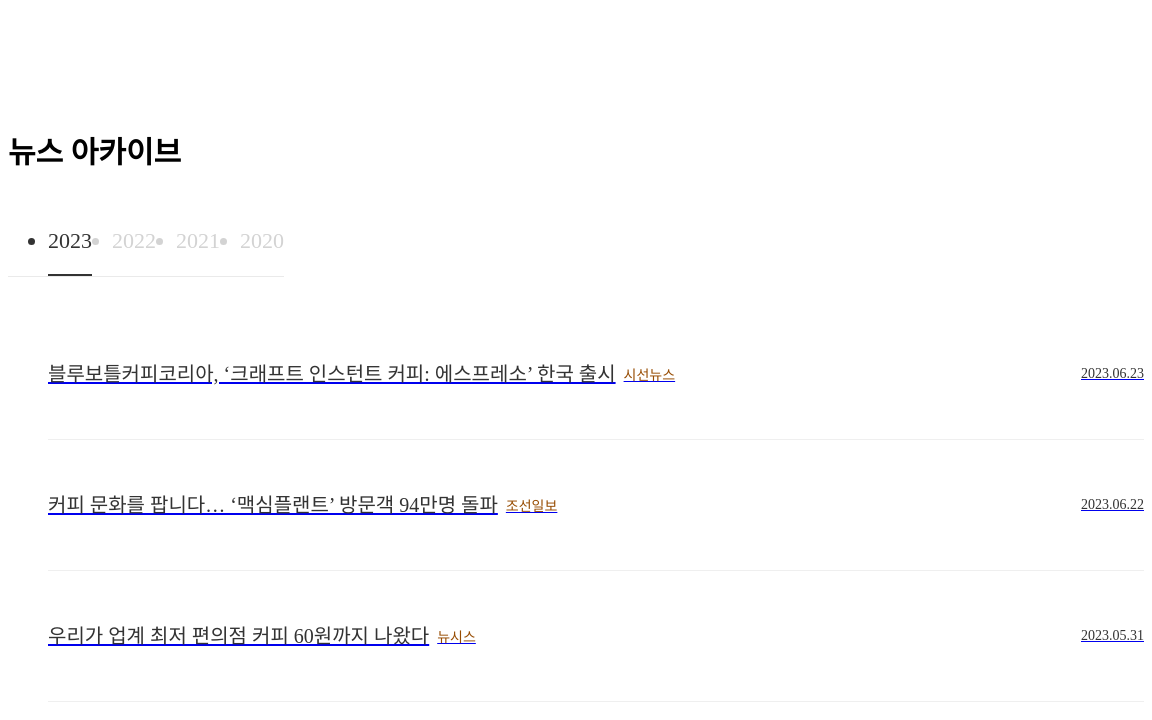
it: MiddleNews 통합 테스트 › 2022 탭 클릭. 기사 29개 › 기사가 10개를 초과해도 최초엔 10개만 렌더
Click the tab "2022" at (134, 240), box [112,228,156,253]
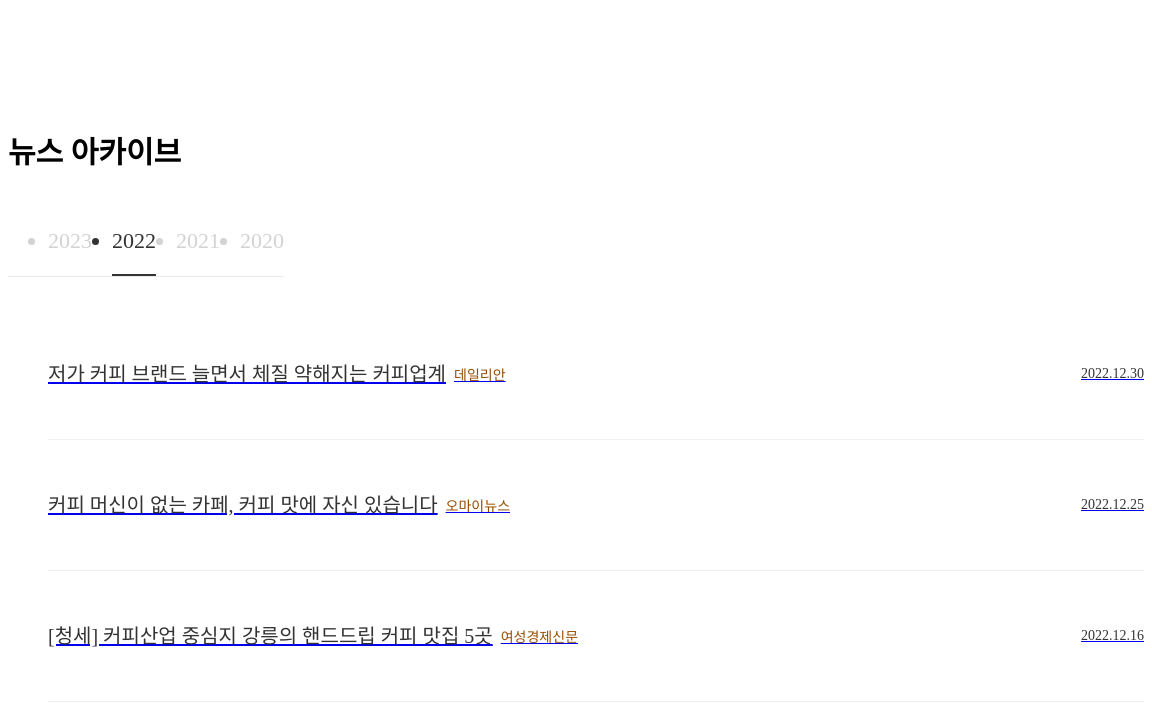
Now the number of links is 10
